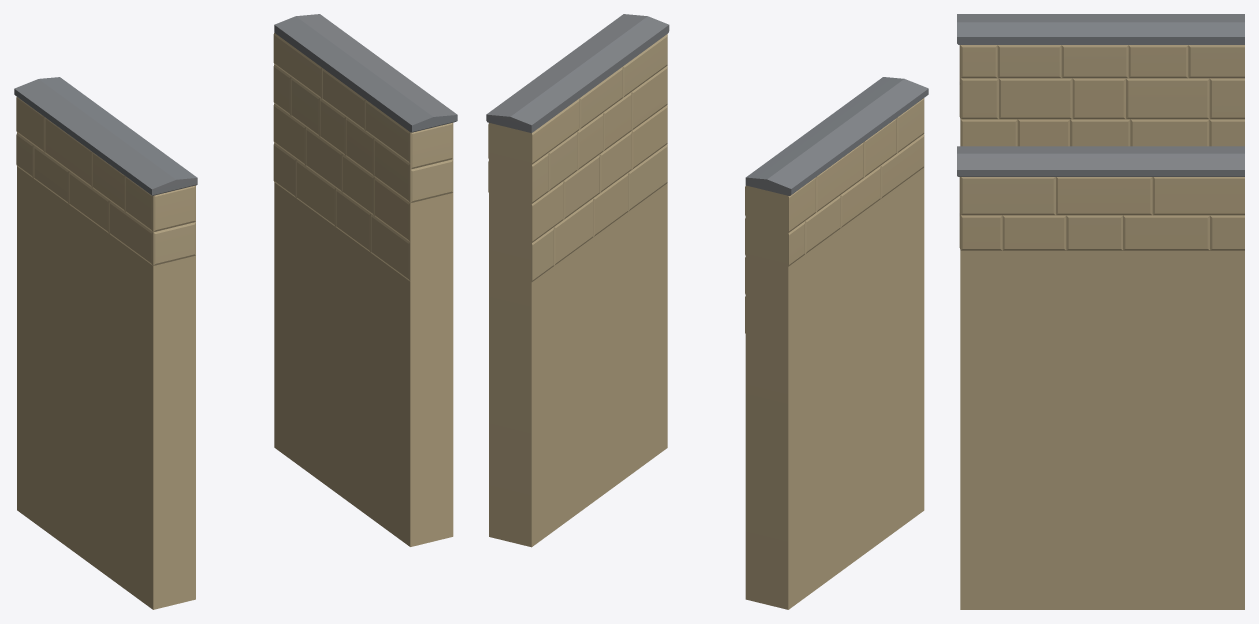
3 renders of one model, left to right at view 1: azimuth 30°, elevation 25°; view 2: azimuth 150°, elevation 25°; view 3: azimuth 270°, elevation 25°, orthographic. The views are drawn at different scales.
Parts seen in each view (by area): view 1: Mesh_Limestone, Mesh_Granite; view 2: Mesh_Limestone, Mesh_Granite; view 3: Mesh_Limestone, Mesh_Granite.
Boxes of the visible parts, box(x1,y1,x2,y2) form: Mesh_Limestone: box(16, 33, 453, 609); Mesh_Granite: box(14, 14, 457, 195); Mesh_Limestone: box(488, 34, 924, 609); Mesh_Granite: box(486, 14, 928, 195); Mesh_Limestone: box(959, 45, 1244, 609); Mesh_Granite: box(957, 14, 1244, 176).
Bounding box in the file's own units: 4.28 × 5.7 × 3.34.
